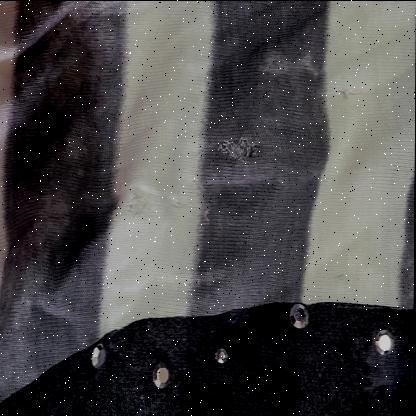spot: (256, 39, 316, 78)
